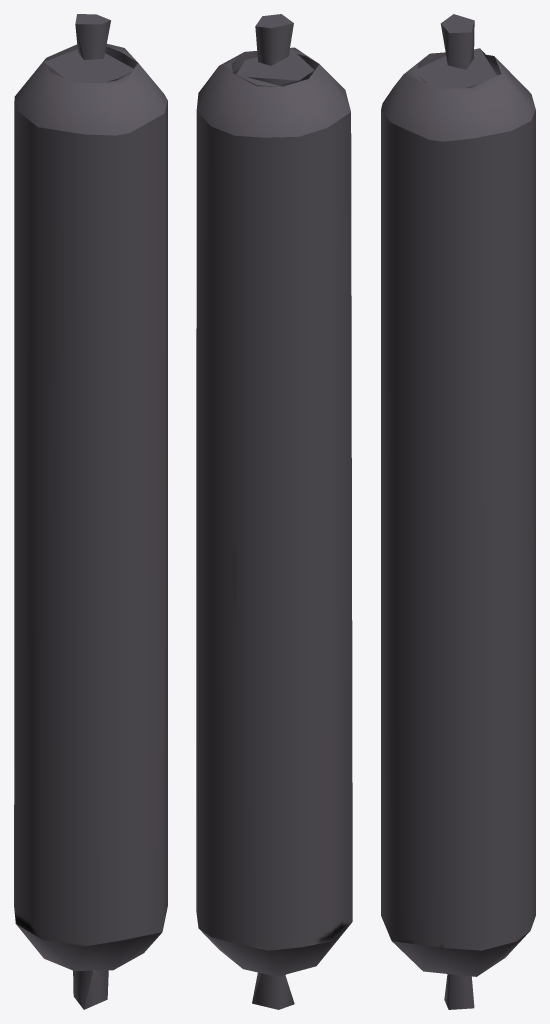
Rendered from CTD_Bottle.glb.
The picture shows the model from 3 angles, left to right: view 1: azimuth 30°, elevation 25°; view 2: azimuth 150°, elevation 25°; view 3: azimuth 270°, elevation 25°; orthographic projection.
Parts seen in each view (by area): view 1: SM_CTD; view 2: SM_CTD; view 3: SM_CTD.
Boxes of the visible parts, x1,y1,x2,y2 form: SM_CTD: (14, 14, 167, 1009); SM_CTD: (196, 14, 352, 1009); SM_CTD: (381, 14, 535, 1009).
Bounding box in the file's own units: 6.9 × 48.6 × 6.93.
Materials: 1 (1 with a texture image).
